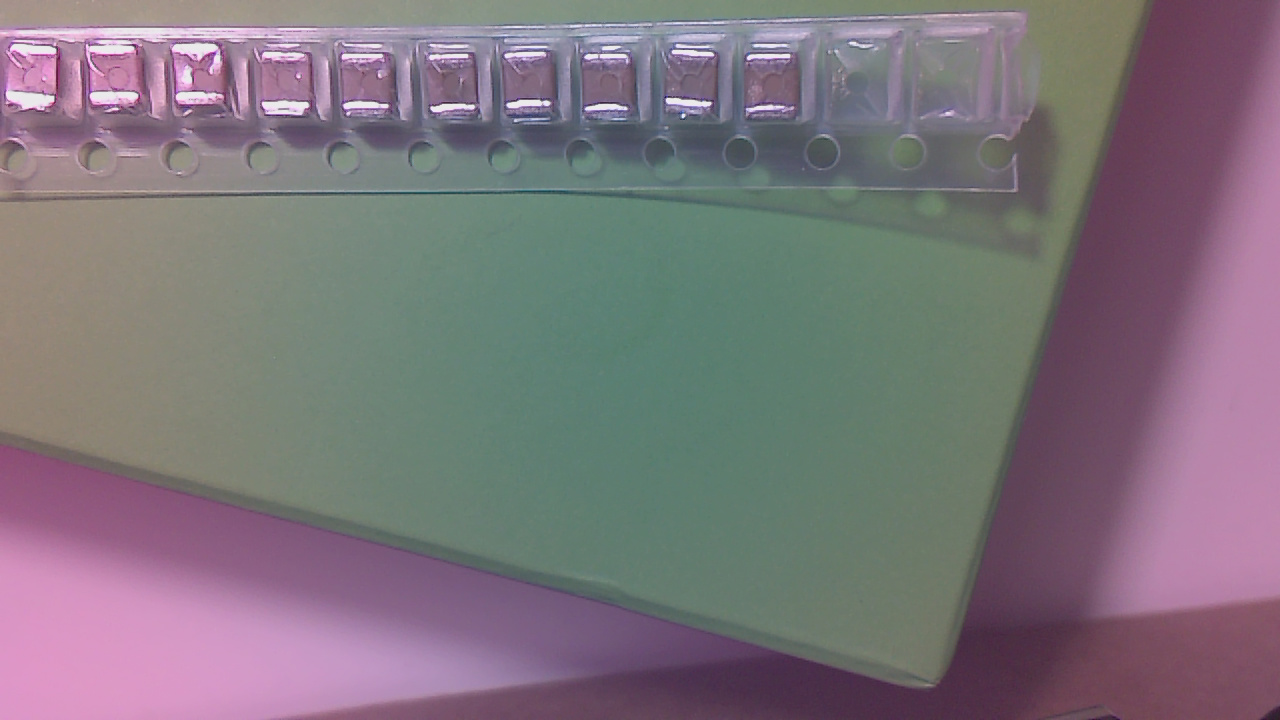Condensator: (9, 48, 66, 120), (433, 51, 484, 126), (347, 53, 400, 125), (668, 52, 722, 121), (180, 45, 231, 116), (91, 49, 145, 115), (588, 54, 638, 125), (748, 59, 800, 127), (262, 55, 314, 123), (509, 53, 555, 127)
